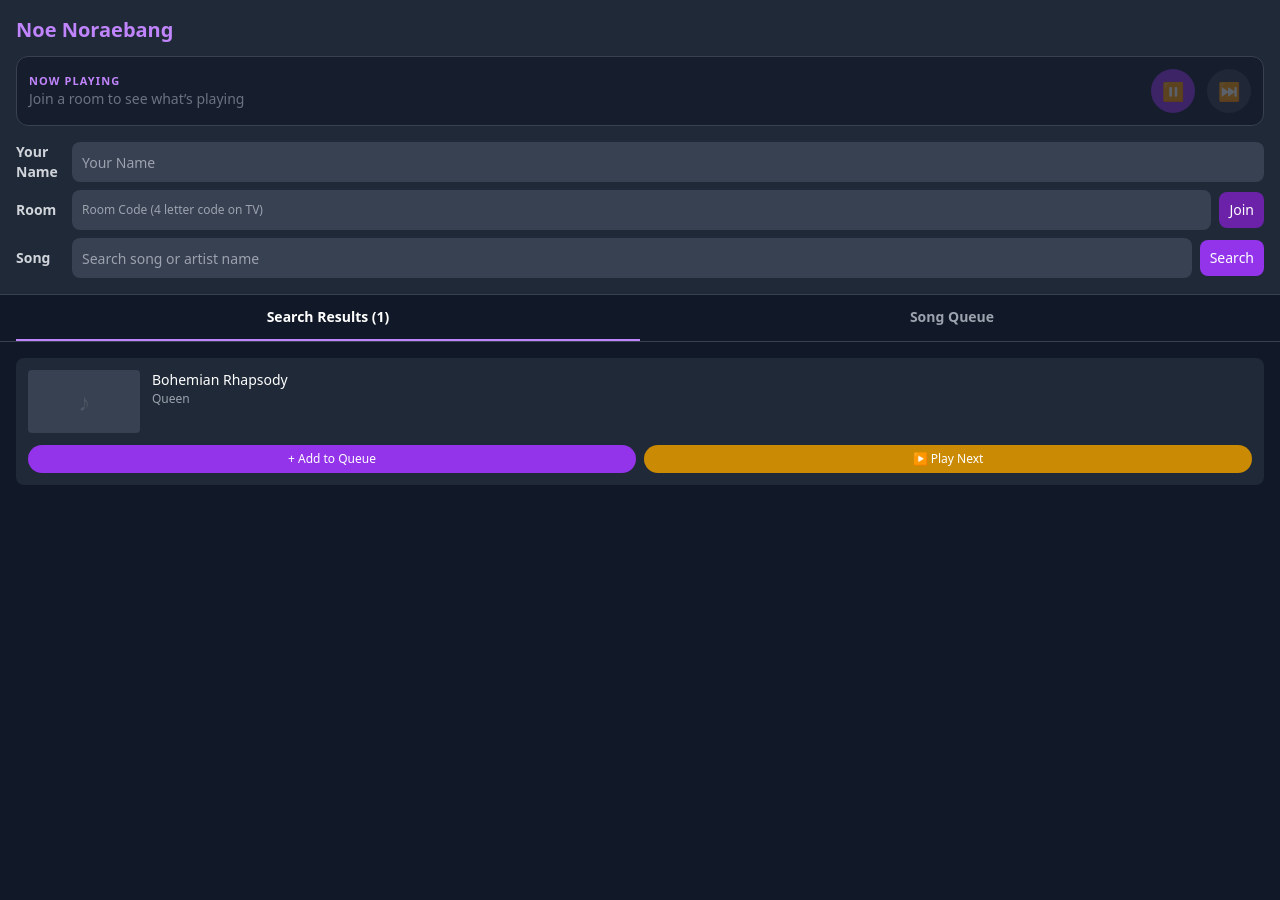
Test: MobileView › adding songs › blocks Play Next when only the room code is missing
This screenshot has width=1280, height=900.
In the field labelled "Your Name": [668, 162] box [72,142,1264,182], type "Alex"
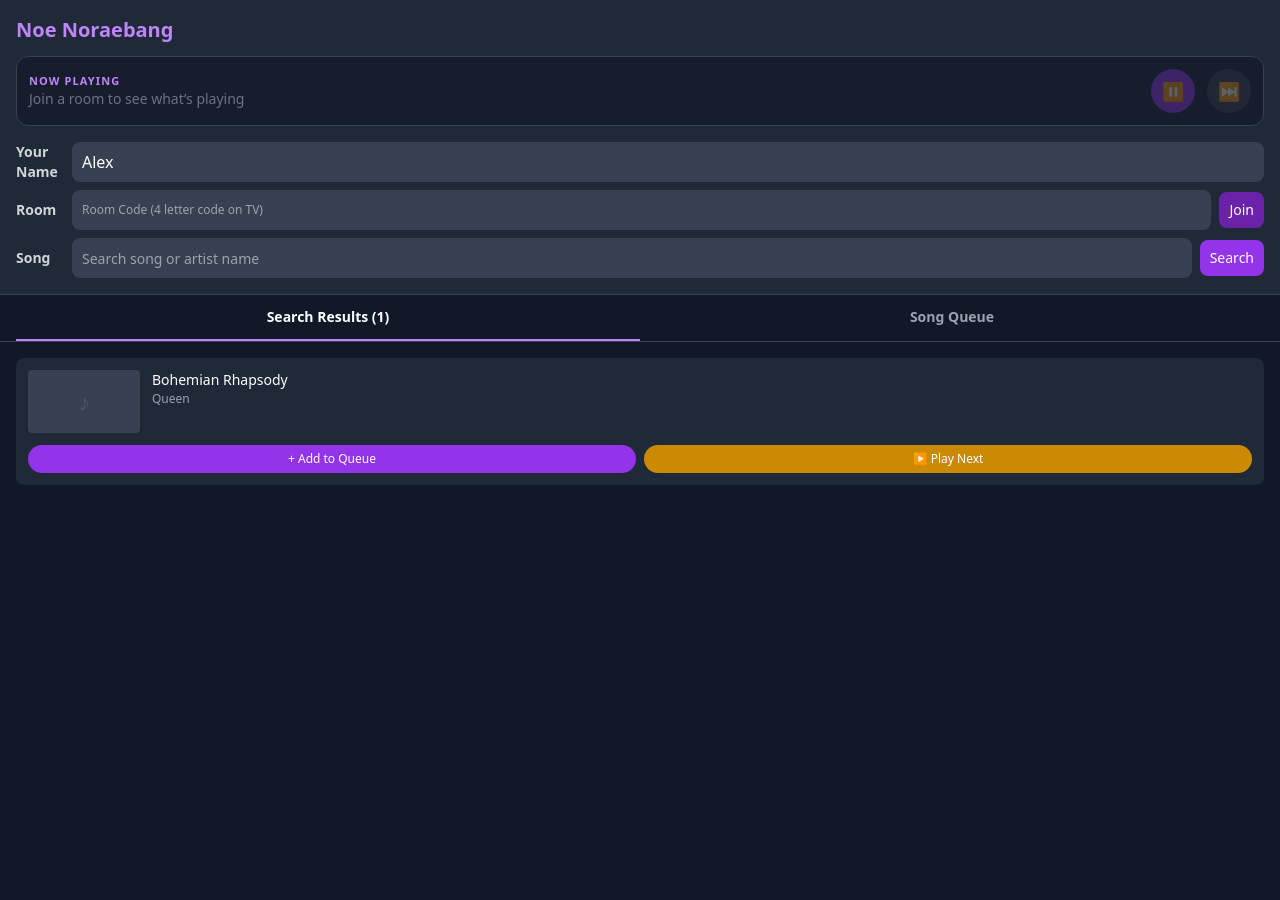
Click the button "▶ Play Next": [948, 459] box [644,445,1252,473]
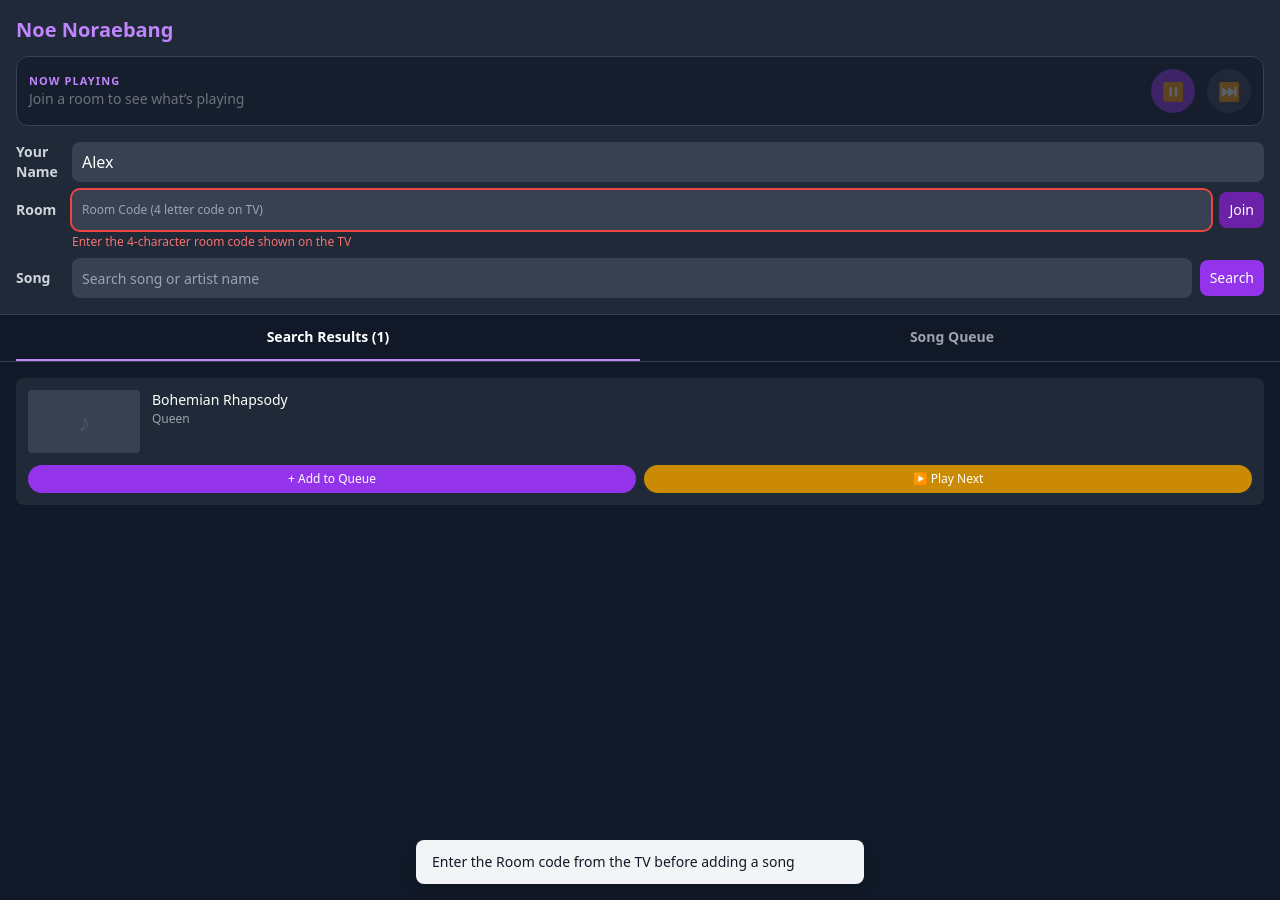
Expected: the message with test id "toast" reads "Enter the Room code from the TV before adding a song", [432,852,795,871]
